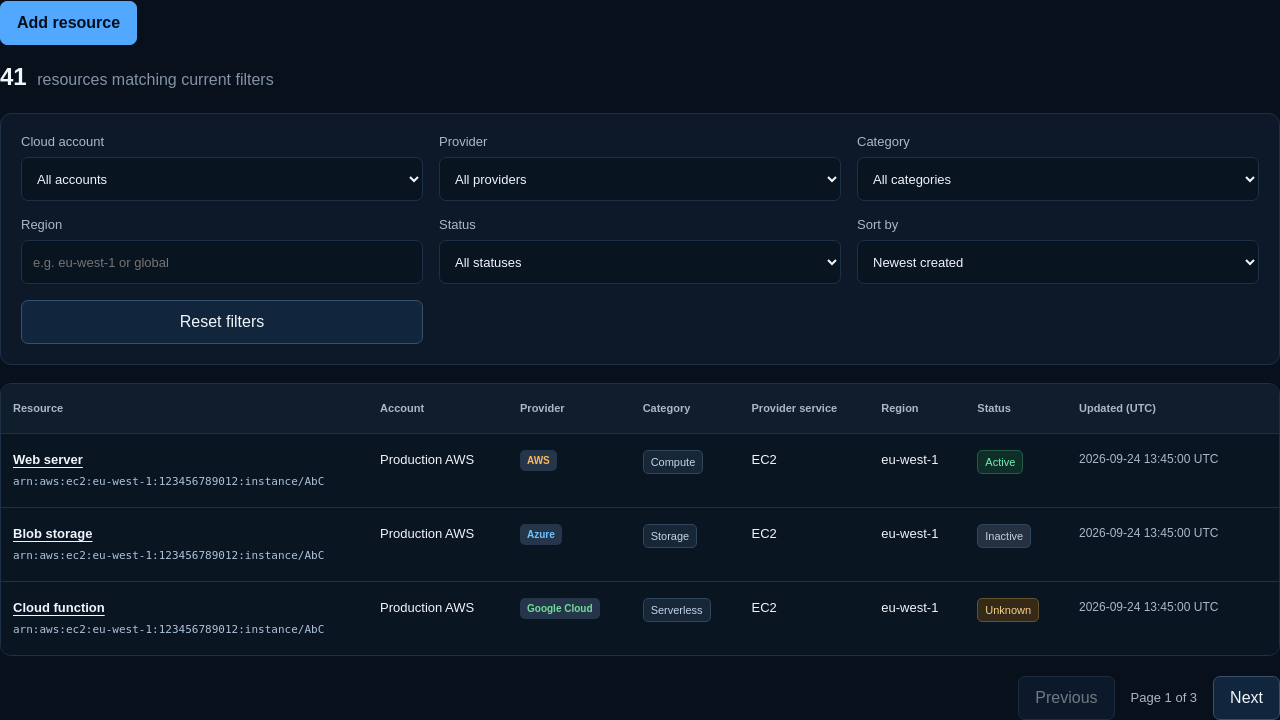
Test: Cloud resource inventory › changing Provider resets pagination and sends the selected value
The image size is (1280, 720).
(page scrolled)
Check: the table is shown, box [1,384,1279,654]
Check: the dropdown labelled "Cloud account" is enabled, box [21,157,423,201]
Click the button "Next" at (1247, 698), box [1213,676,1279,719]
(page scrolled)
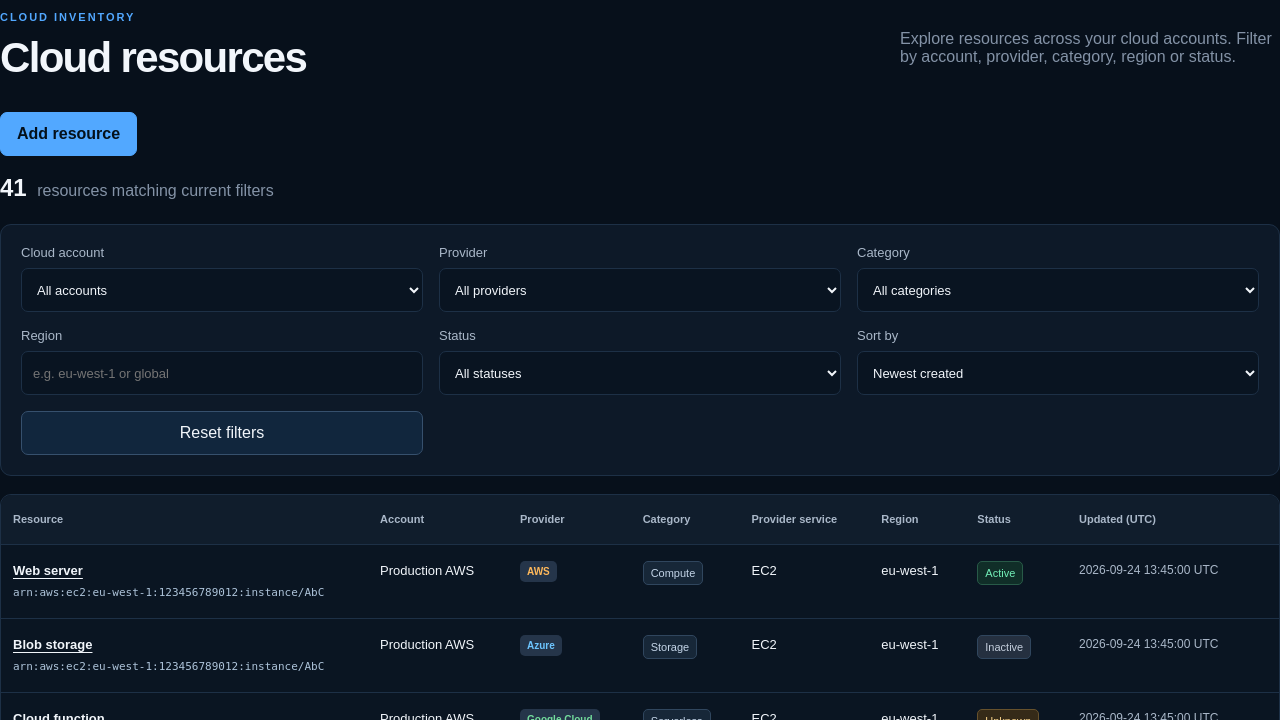
Select "Azure" in the dropdown labelled "Provider" at (640, 290), box [439,268,841,312]
(page scrolled)
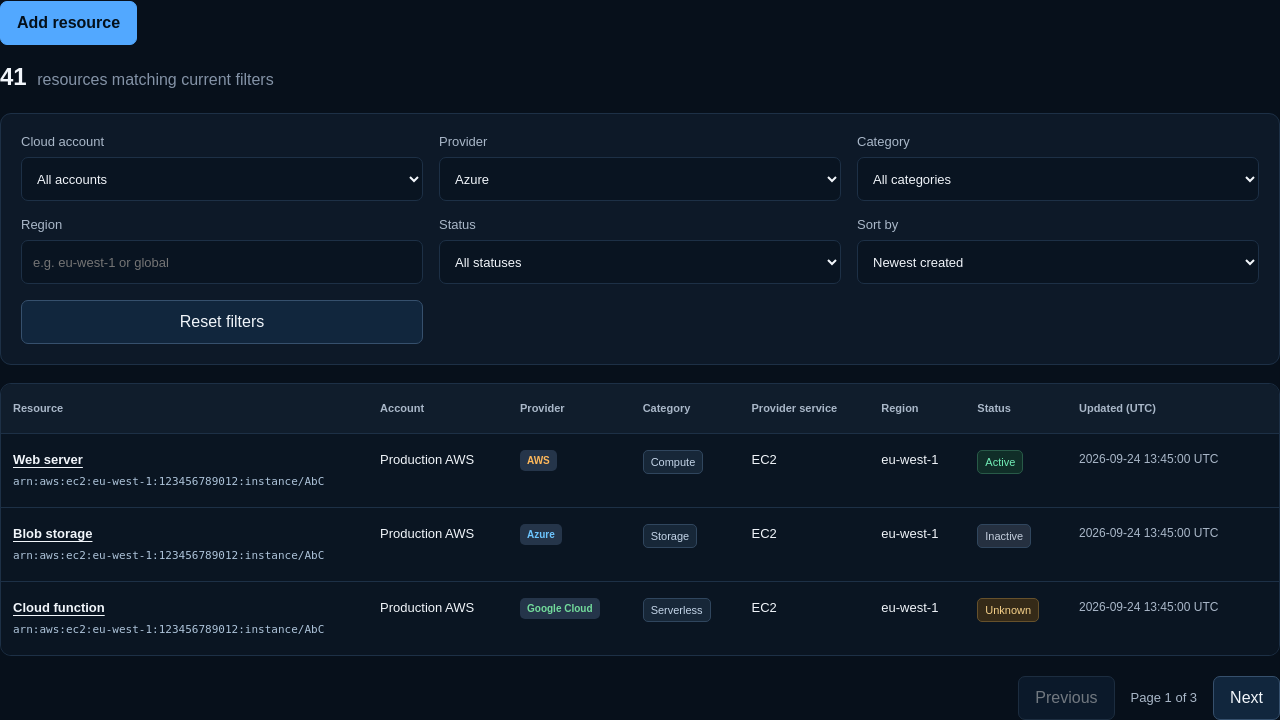
Check: the text "Page 1 of 3" is shown, box [1131,690,1197,705]
